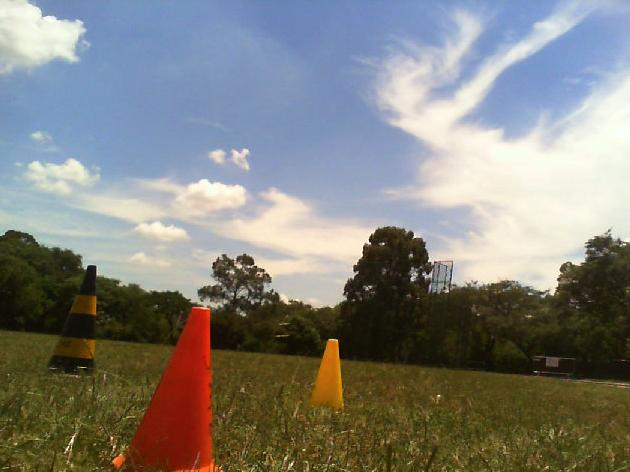0 cone: (110, 307, 218, 472), (46, 265, 98, 377), (308, 338, 343, 411)
